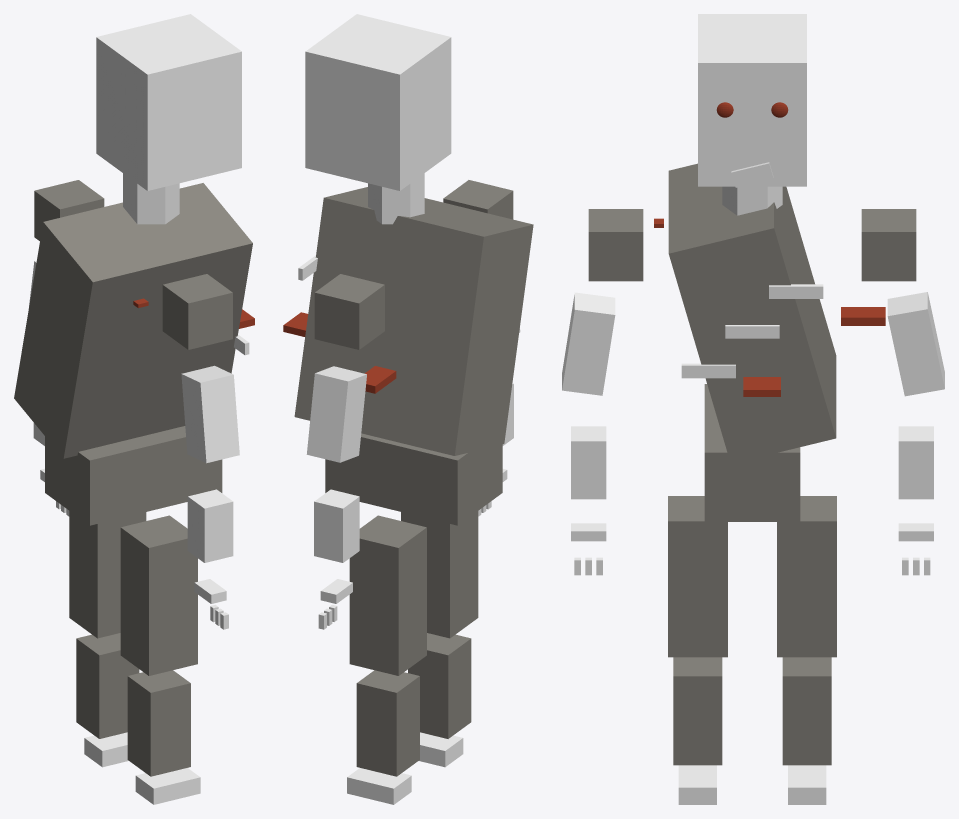
File: zombie_spitter.glb
3 renders of one model, left to right at view 1: azimuth 30°, elevation 25°; view 2: azimuth 150°, elevation 25°; view 3: azimuth 270°, elevation 25°, orthographic. The views are drawn at different scales.
Visible parts, largest first — view 1: zombie_spitter; view 2: zombie_spitter; view 3: zombie_spitter.
Part boxes in pixels (x1,y1,x2,y2): zombie_spitter: (14, 14, 254, 804); zombie_spitter: (283, 14, 533, 804); zombie_spitter: (562, 14, 944, 804).
Bounding box in the file's own units: 0.4433 × 1.55 × 0.7014.
